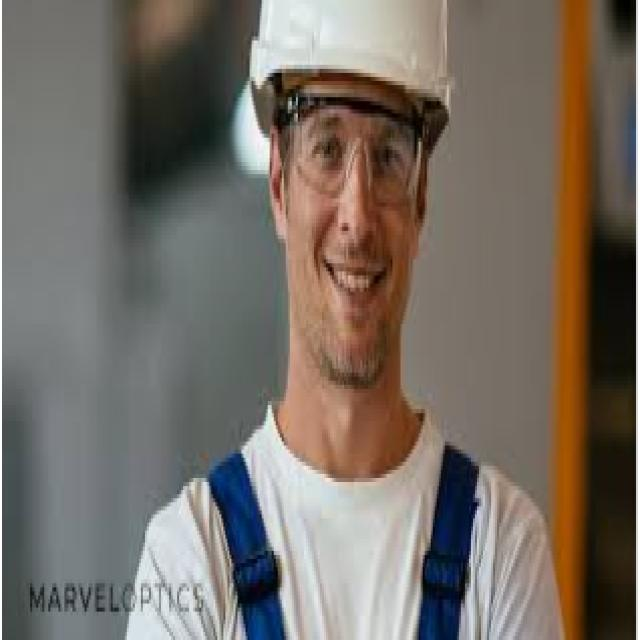glasses: (286, 94, 422, 204)
